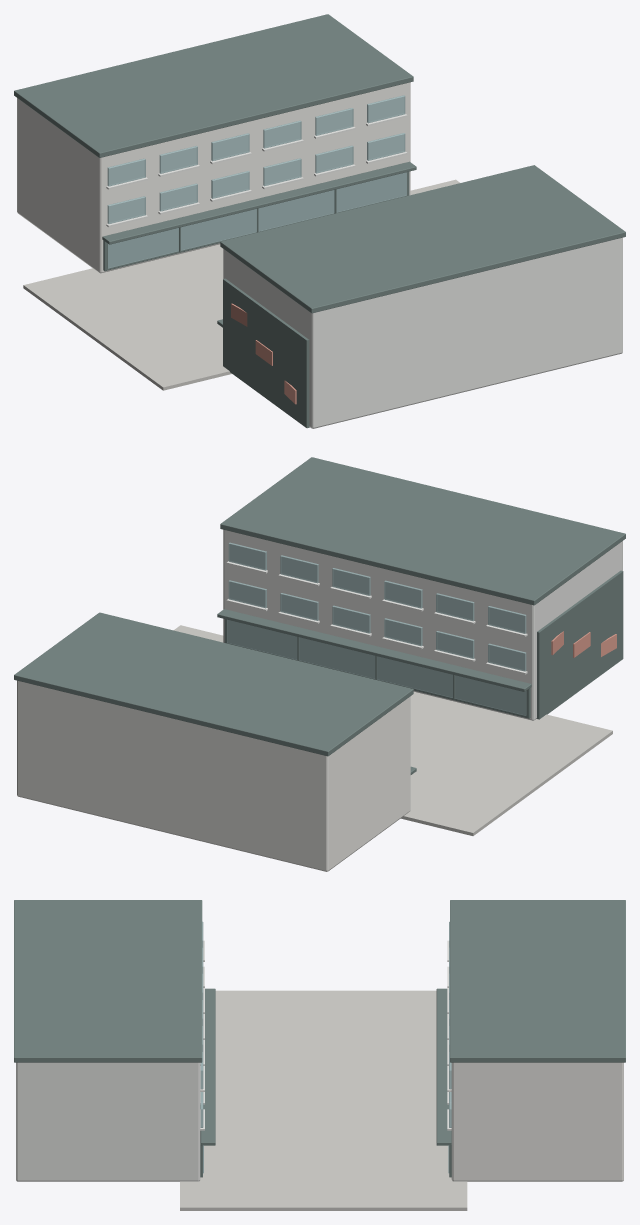
Rendered from xingfuli-west-identity.glb.
3 views of the same model, one above another, from view 1: azimuth 30°, elevation 25°; view 2: azimuth 150°, elevation 25°; view 3: azimuth 270°, elevation 25° (orthographic). The views are drawn at different scales.
Parts seen in each view (by area): view 1: xingfuli-west-identity; view 2: xingfuli-west-identity; view 3: xingfuli-west-identity.
Boxes of the visible parts, x1=… form: xingfuli-west-identity: x1=14, y1=14, x2=625, y2=428; xingfuli-west-identity: x1=14, y1=457, x2=625, y2=871; xingfuli-west-identity: x1=14, y1=900, x2=625, y2=1210.
Size of the model in its own units: 25 by 6.89 by 29.83.
